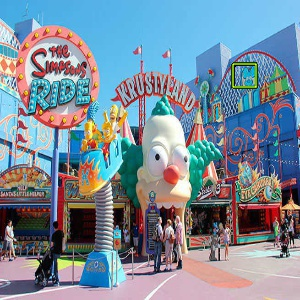square: (230, 61, 259, 90)
